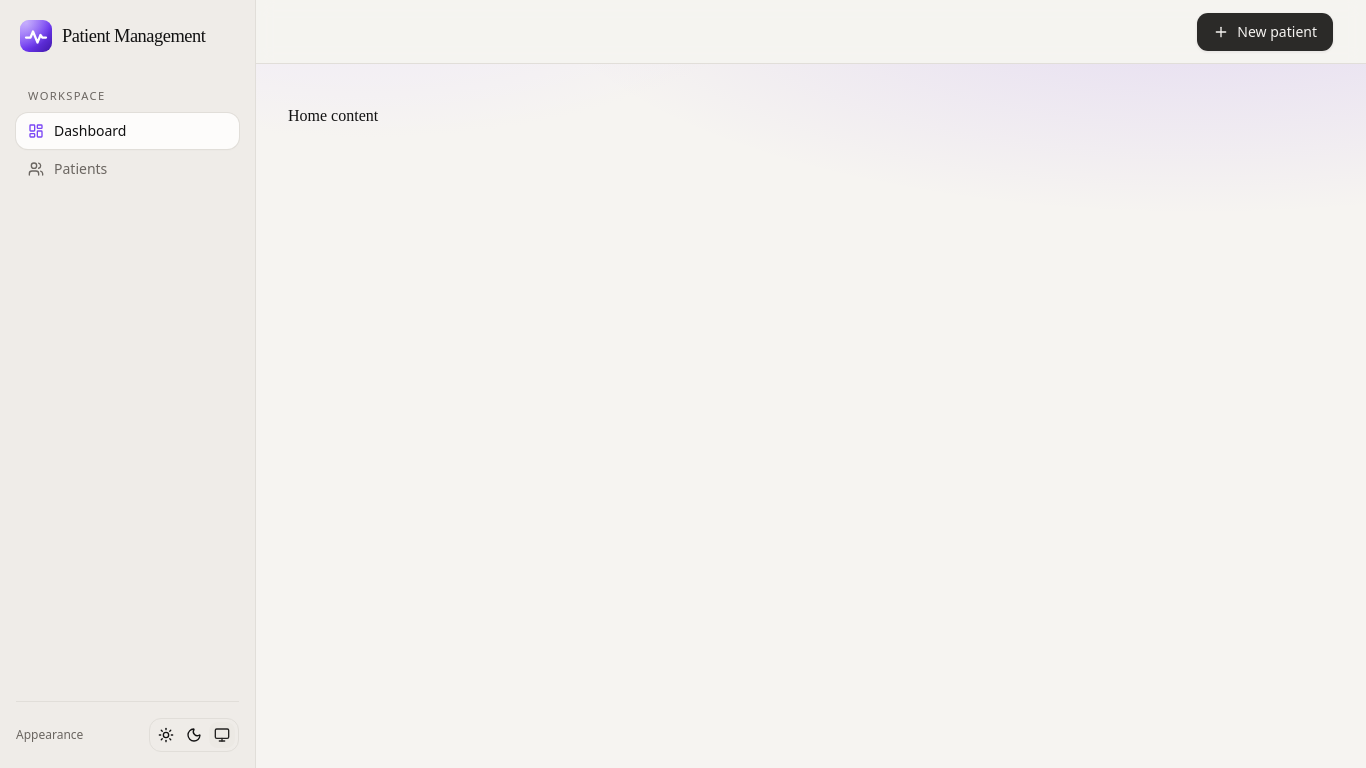
Test: AppLayout › navigates via the Patients link and marks it active
Click the link "Patients": (68, 168) left=28, top=159, right=107, bottom=178
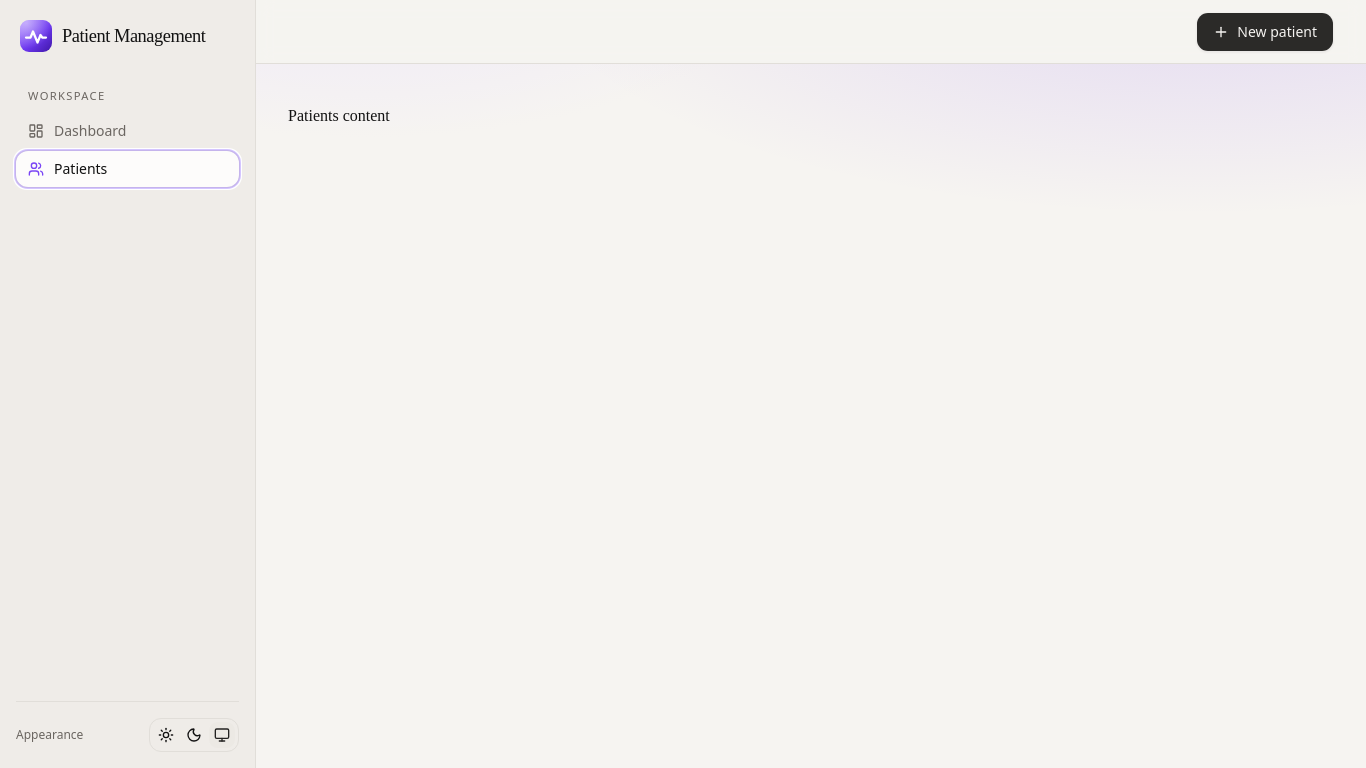
Check: the heading "Patients content" is shown, box left=288, top=107, right=390, bottom=124
